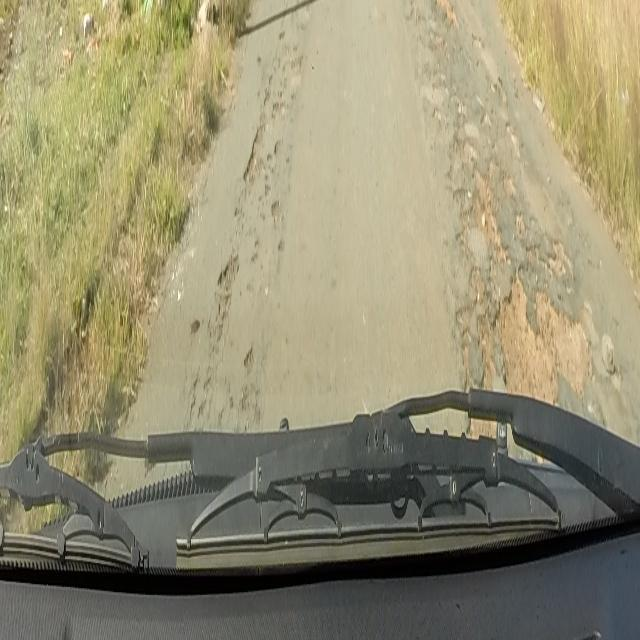pothole: (464, 186, 582, 420), (428, 40, 528, 187), (194, 249, 264, 437), (243, 52, 303, 186), (428, 0, 459, 32)
